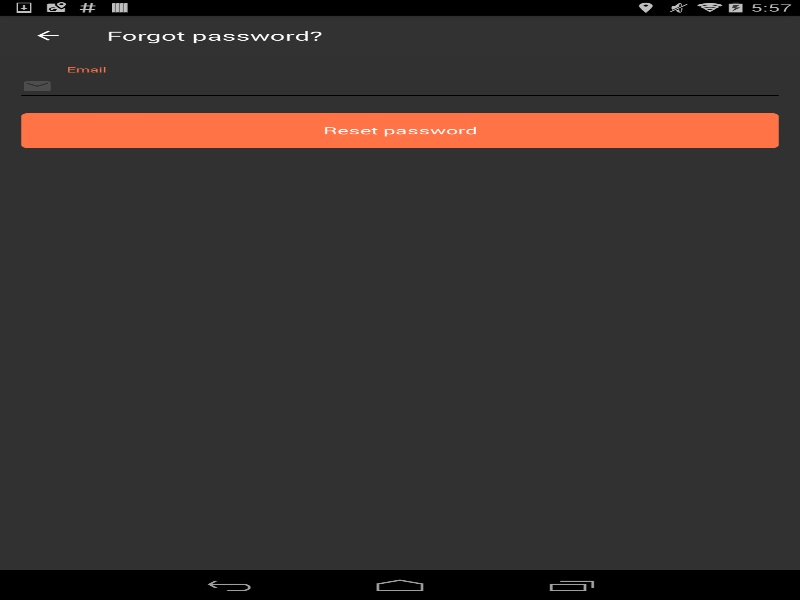Button: (21, 113, 778, 148), (10, 15, 85, 55)
Input: (21, 72, 778, 100)
